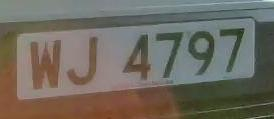4: (121, 29, 157, 85)
7: (216, 16, 247, 77), (152, 26, 185, 81)
9: (184, 23, 221, 79)
J: (60, 31, 106, 92)
W: (25, 33, 65, 97)
